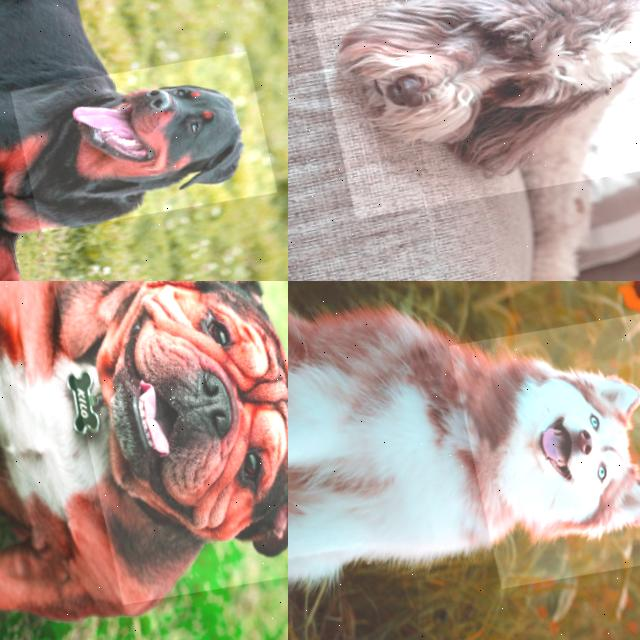bulldog: (39, 281, 288, 609)
husky: (447, 299, 640, 590)
poodle: (291, 0, 640, 227)
rottweiler: (9, 36, 276, 236)
